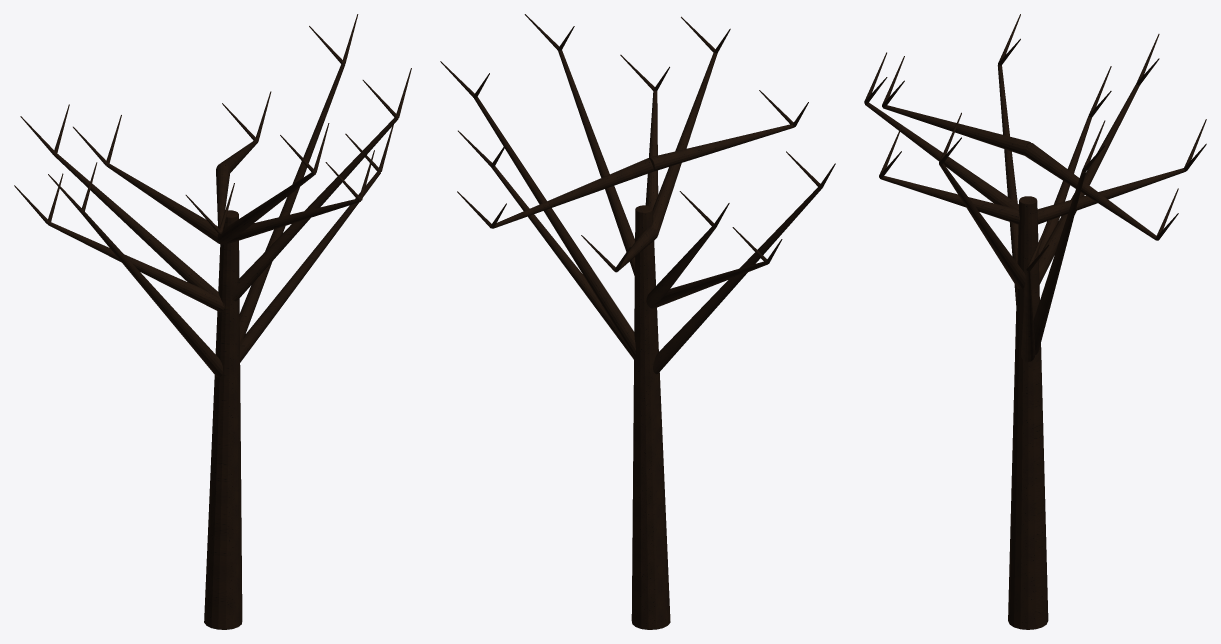
File: PROP-64D99EA09800_lod0.glb
The picture shows the model from 3 angles, left to right: view 1: azimuth 30°, elevation 25°; view 2: azimuth 150°, elevation 25°; view 3: azimuth 270°, elevation 25°; orthographic projection. The views are drawn at different scales.
Parts seen in each view (by area): view 1: branch.008, trunk.020, bare_twigs.002; view 2: branch.008, trunk.020, bare_twigs.002; view 3: branch.008, trunk.020, bare_twigs.002.
Part boxes in pixels (<box>): branch.008: <box>48,64,398,377</box>; trunk.020: <box>204,210,242,629</box>; bare_twigs.002: <box>14,14,411,233</box>; branch.008: <box>474,50,821,374</box>; trunk.020: <box>631,205,670,629</box>; bare_twigs.002: <box>440,14,835,271</box>; branch.008: <box>865,65,1185,361</box>; trunk.020: <box>1008,196,1048,629</box>; bare_twigs.002: <box>864,14,1206,271</box>.
Size of the model in its own units: 5.16 by 7.39 by 4.07.
Materials: 1 (1 with a texture image).
